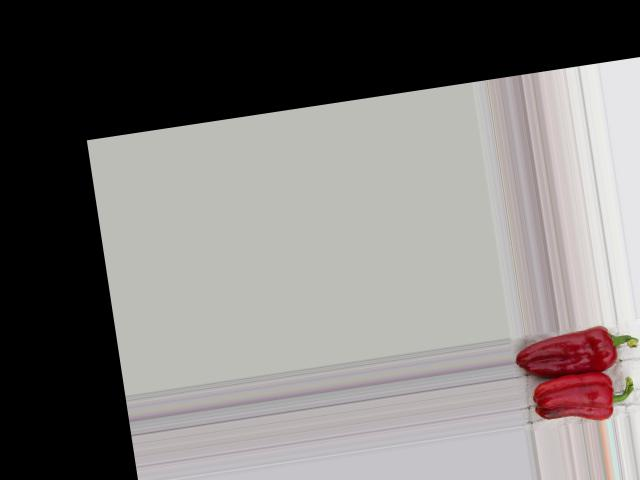bell_pepper: (512, 320, 640, 385)
